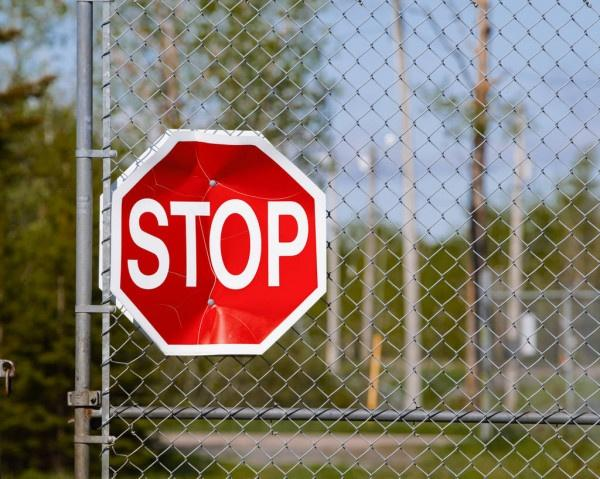Sign: (110, 127, 329, 357)
